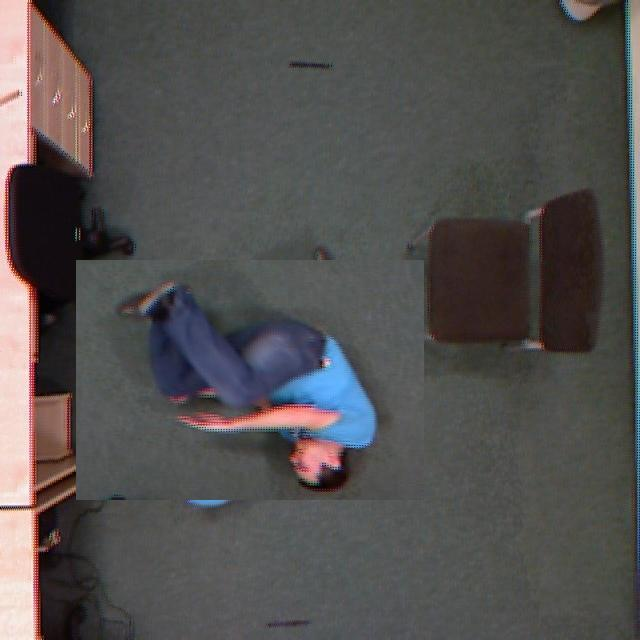Fall: (139, 253, 438, 507)
